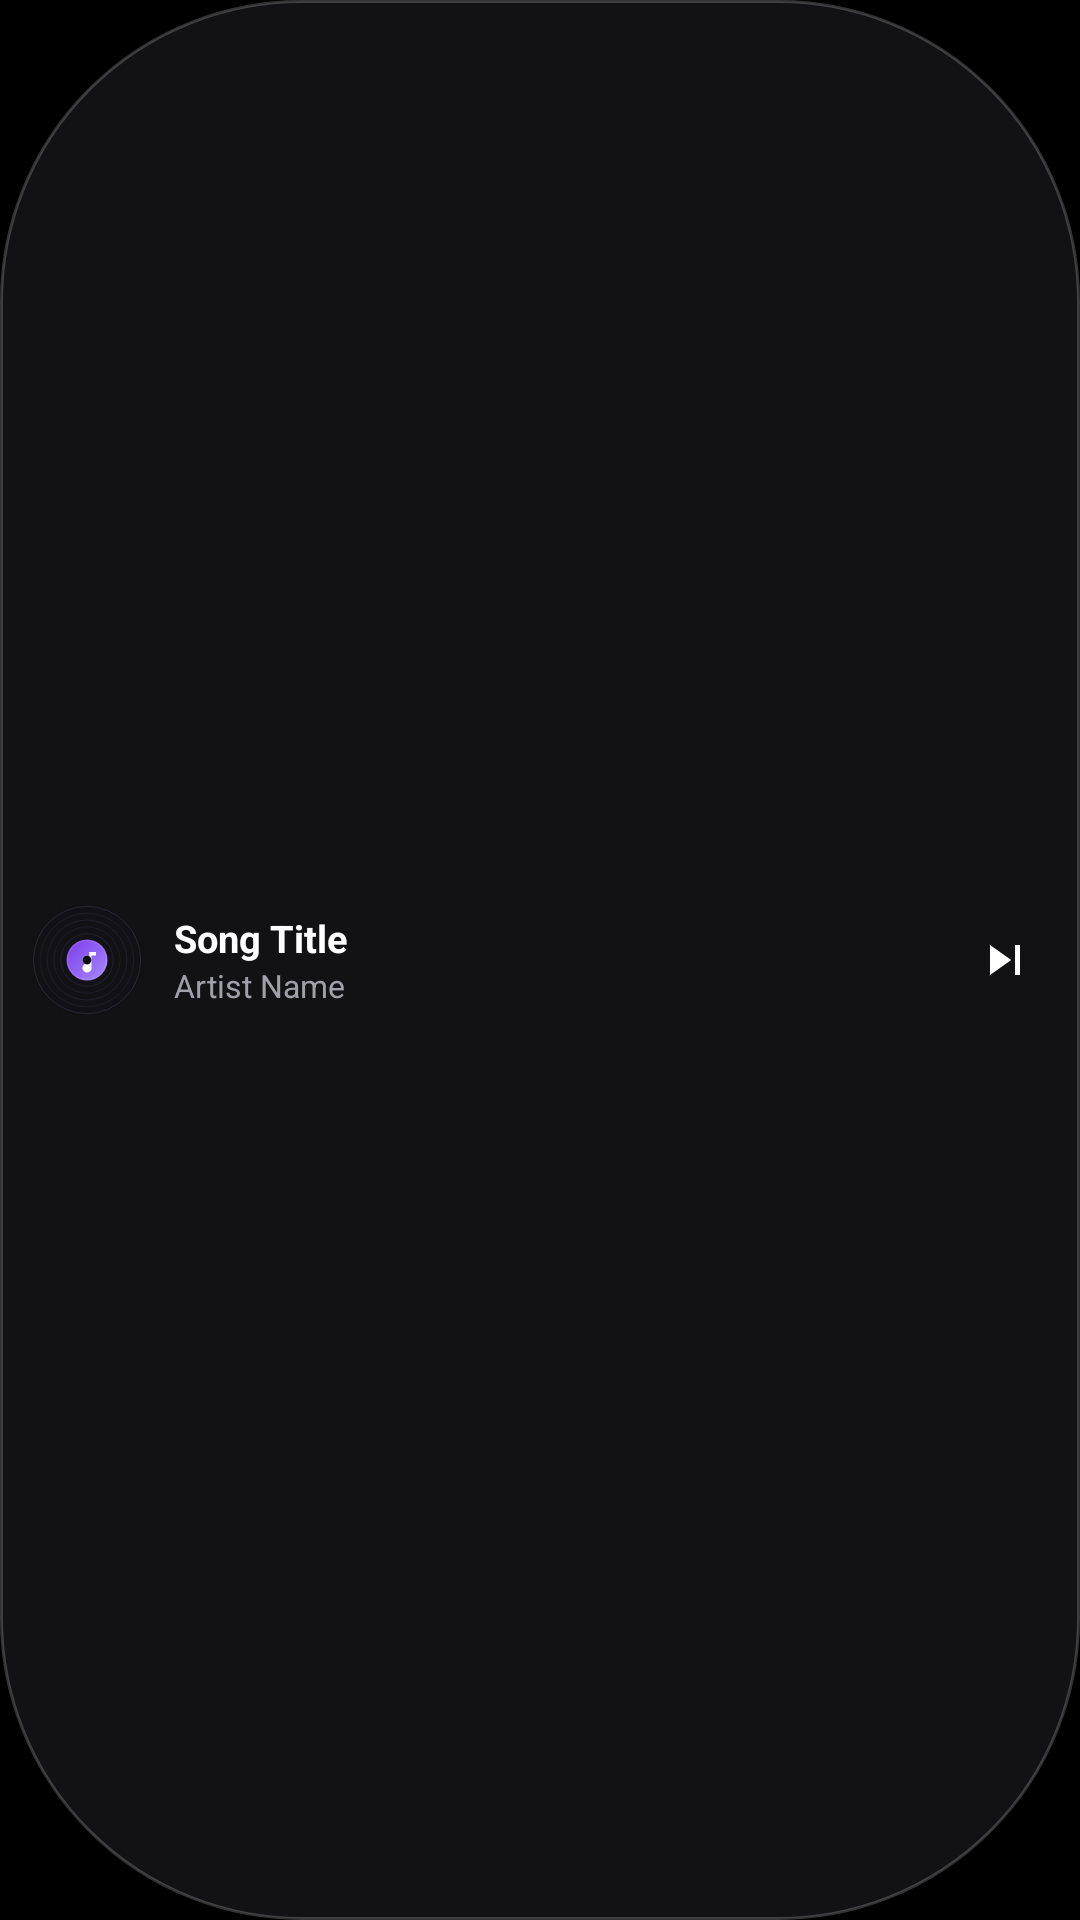

Point at icon controls on the screen. Image size 1080*1920, points as (x,y).
Album Art: (87,960)
Next: (1005,960)
